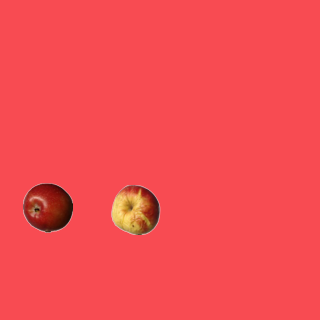Apple Braeburn: (22, 182, 72, 232)
Apple Red Yellow 1: (110, 184, 160, 234)
